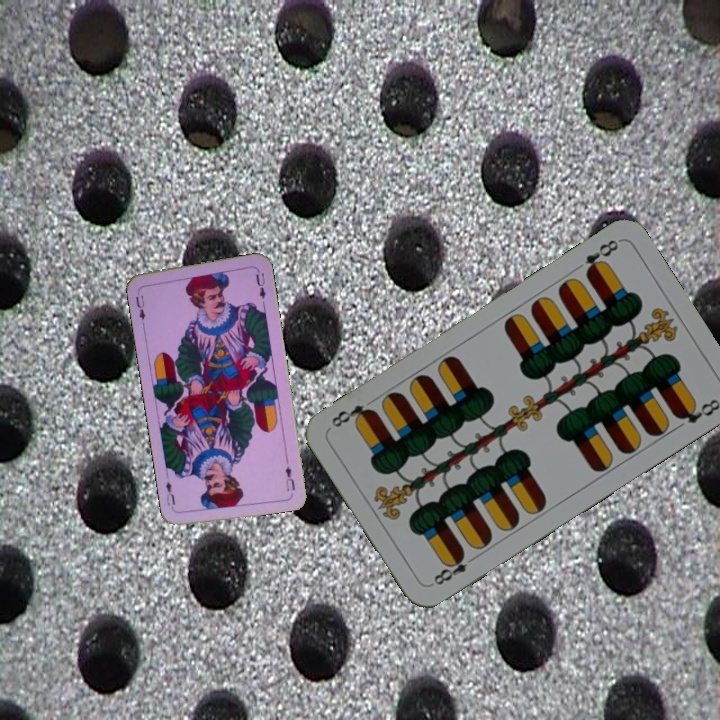E8: (429, 548, 480, 588), (580, 235, 621, 279)
EU: (132, 286, 148, 327), (281, 462, 298, 494)
